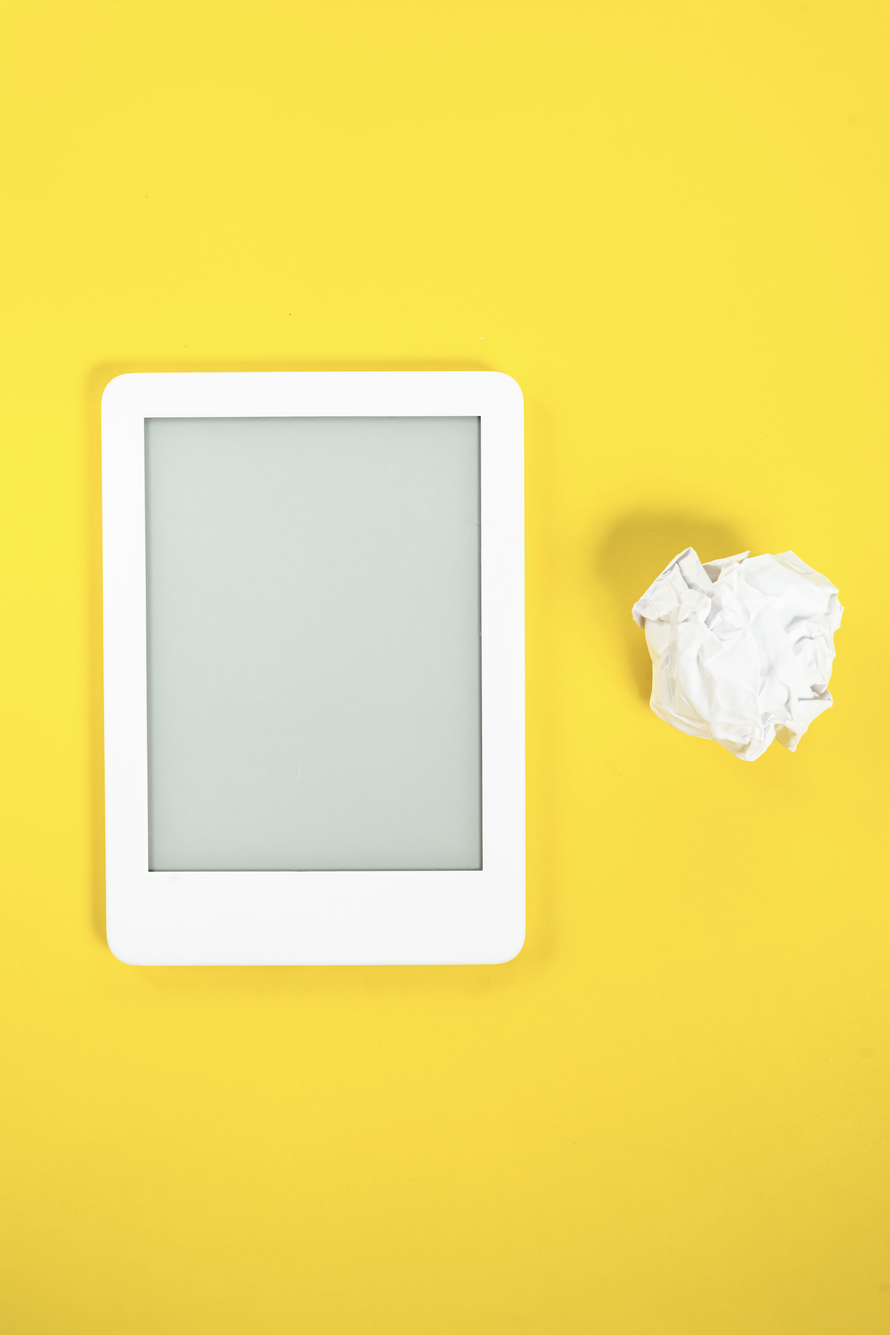paper: (630, 547, 847, 763)
